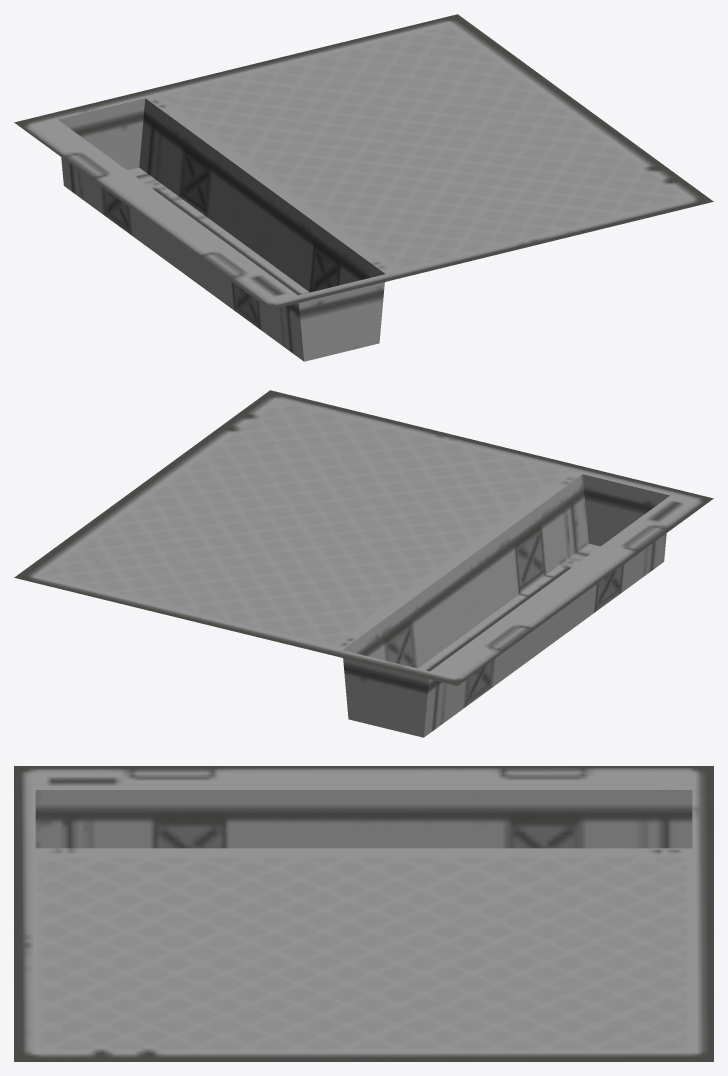
The model's file is A_Floor_2_2x2.FBX.
3 renders of one model, top to bottom at view 1: azimuth 30°, elevation 25°; view 2: azimuth 150°, elevation 25°; view 3: azimuth 270°, elevation 25°, orthographic. The views are drawn at different scales.
Parts seen in each view (by area): view 1: A_Floor_2_2x2; view 2: A_Floor_2_2x2; view 3: A_Floor_2_2x2.
Boxes of the visible parts, left/top/right/bottom form: A_Floor_2_2x2: left=14, top=14, right=713, bottom=361; A_Floor_2_2x2: left=14, top=390, right=713, bottom=737; A_Floor_2_2x2: left=14, top=766, right=713, bottom=1061.
Size of the model in its own units: 200 by 29.19 by 200.
